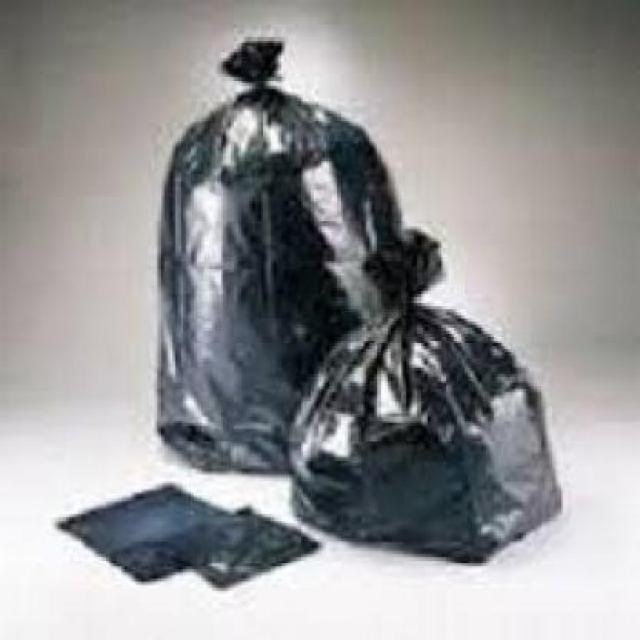garbage: (43, 19, 584, 574)
